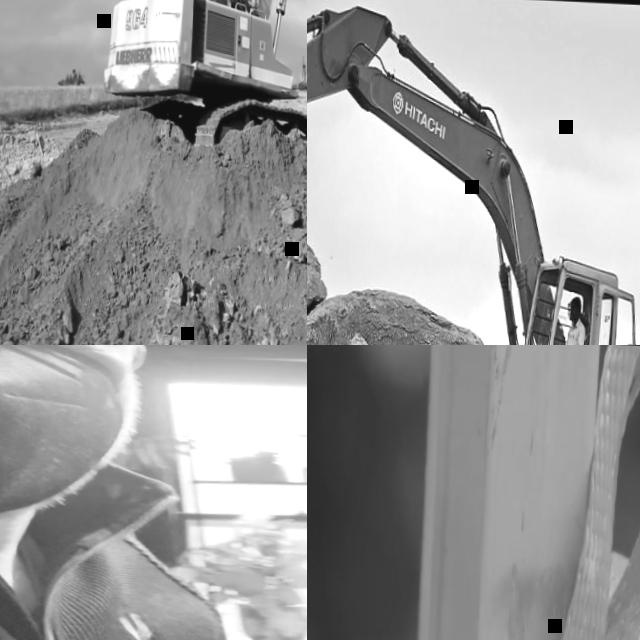Mask: (0, 345, 126, 525)
NO-Hardhat: (567, 291, 582, 307)
NO-Mask: (568, 309, 578, 321)
NO-Safety Vest: (0, 497, 231, 640), (563, 322, 581, 345)
Person: (0, 345, 258, 640), (543, 290, 585, 345)
machinery: (307, 0, 640, 345), (98, 0, 307, 161)
